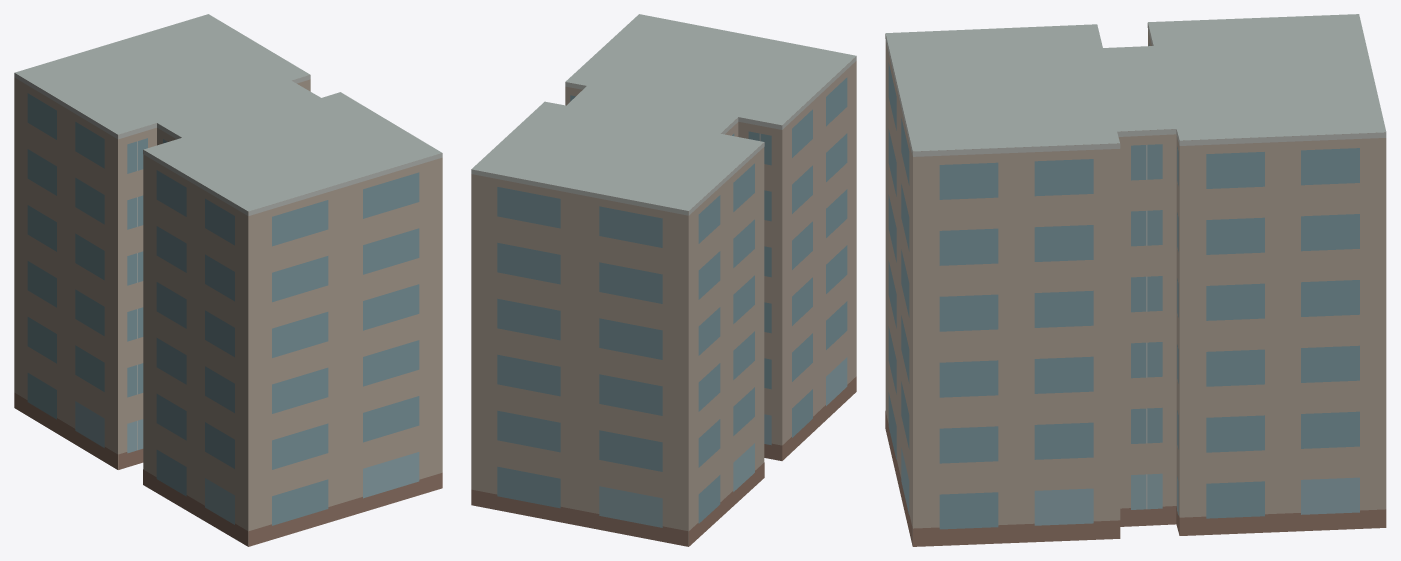
Rendered from survey-upis-32666993.glb.
The picture shows the model from 3 angles, left to right: view 1: azimuth 30°, elevation 25°; view 2: azimuth 150°, elevation 25°; view 3: azimuth 270°, elevation 25°; orthographic projection. The views are drawn at different scales.
Visible parts, largest first — view 1: survey-upis-32666993.tmp; view 2: survey-upis-32666993.tmp; view 3: survey-upis-32666993.tmp.
Boxes of the visible parts, <box> form: survey-upis-32666993.tmp: <box>14,14,442,546</box>; survey-upis-32666993.tmp: <box>471,14,856,546</box>; survey-upis-32666993.tmp: <box>885,14,1386,546</box>.
Size of the model in its own units: 13.13 by 17.6 by 20.22.
